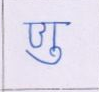u_matra: (26, 48, 66, 66)
